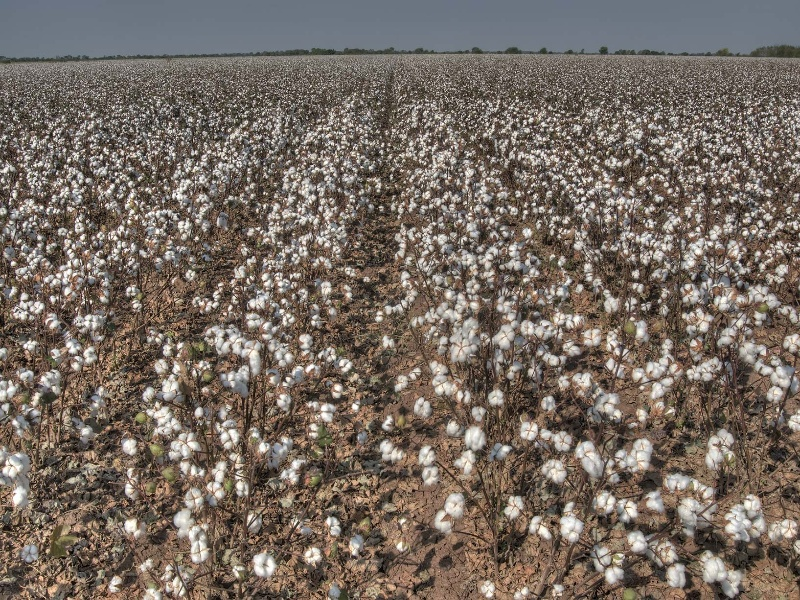cotton: (1, 114, 393, 594), (429, 120, 800, 594)
